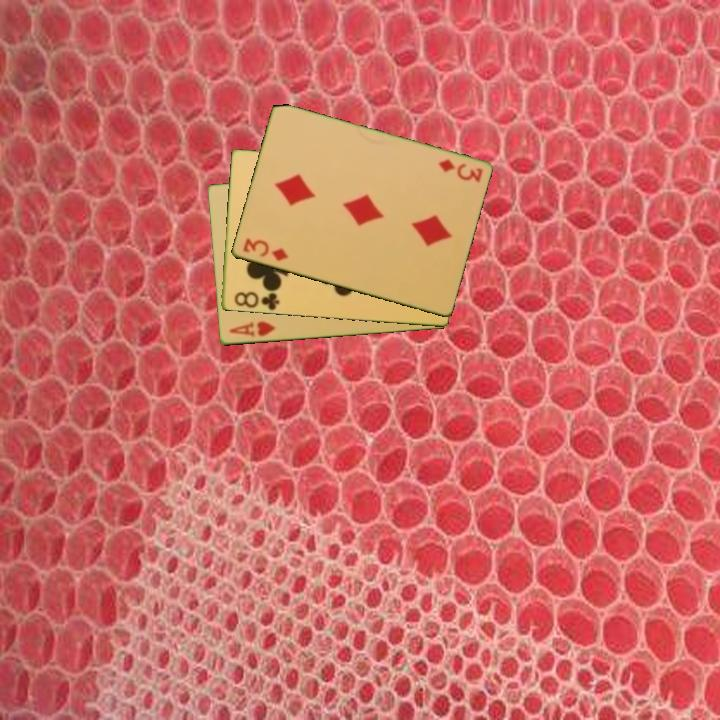3d: (435, 155, 485, 186), (239, 235, 291, 264)
8c: (231, 287, 282, 312)
Ah: (226, 318, 278, 341)
